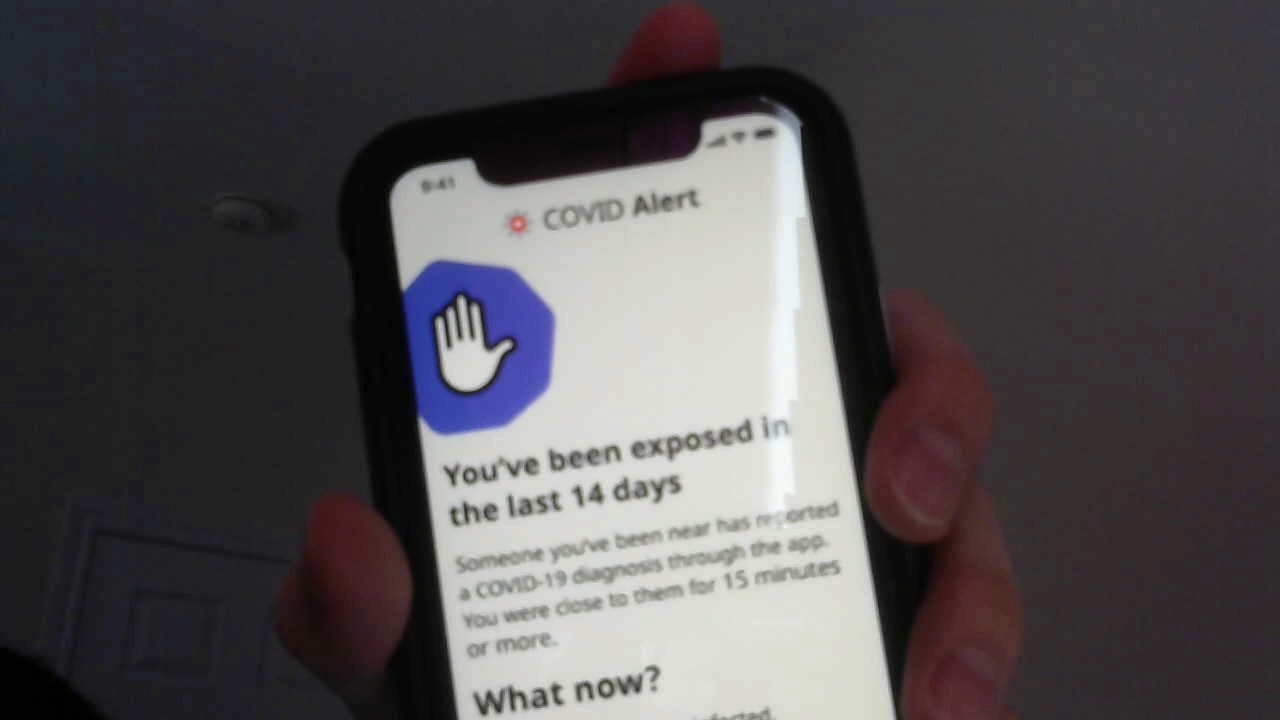Exposed: (372, 251, 864, 530)
